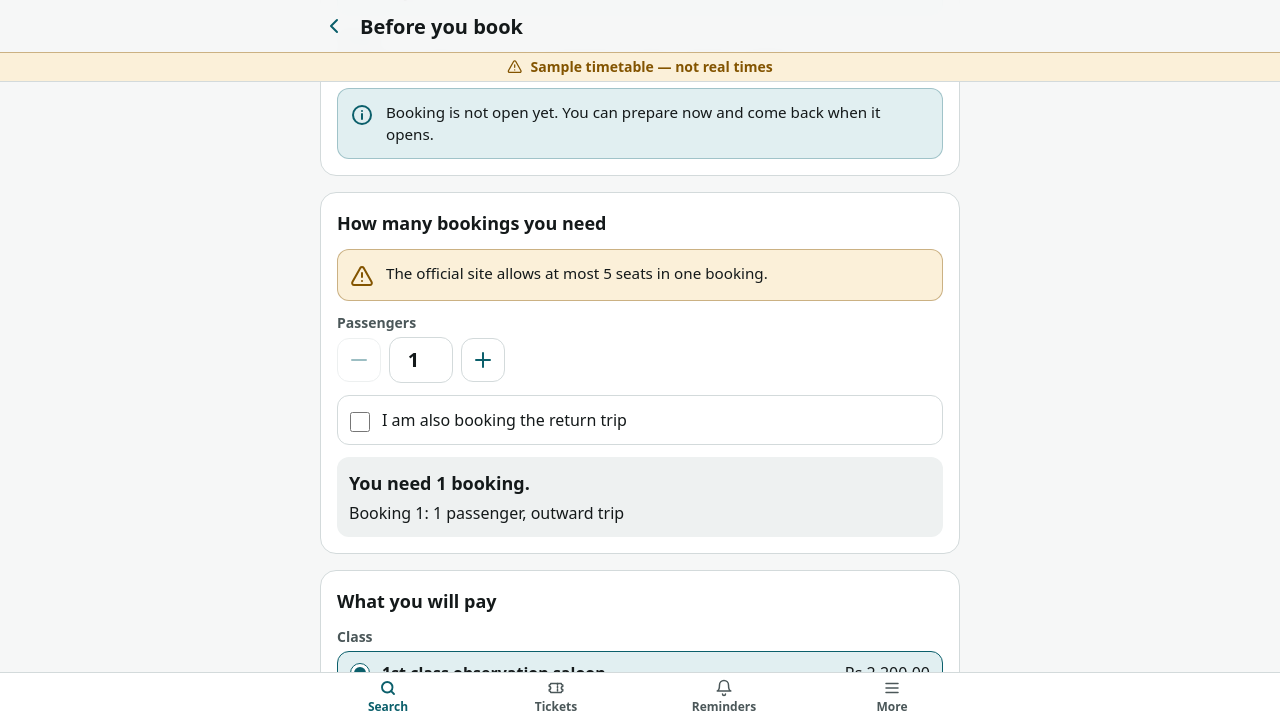
it: how many bookings › warns about the 5-seat limit and splits 7 passengers into 5 + 2
This screenshot has width=1280, height=720.
(page scrolled)
Expected: the text "The official site allows at most 5 seats in one booking." is shown, [386,262,768,285]
Expected: the text "You need 1 booking." is shown, [349,471,530,495]
Replace the text in the number field labelled "Passengers" with "7" at point(421, 360), box [389,337,453,383]
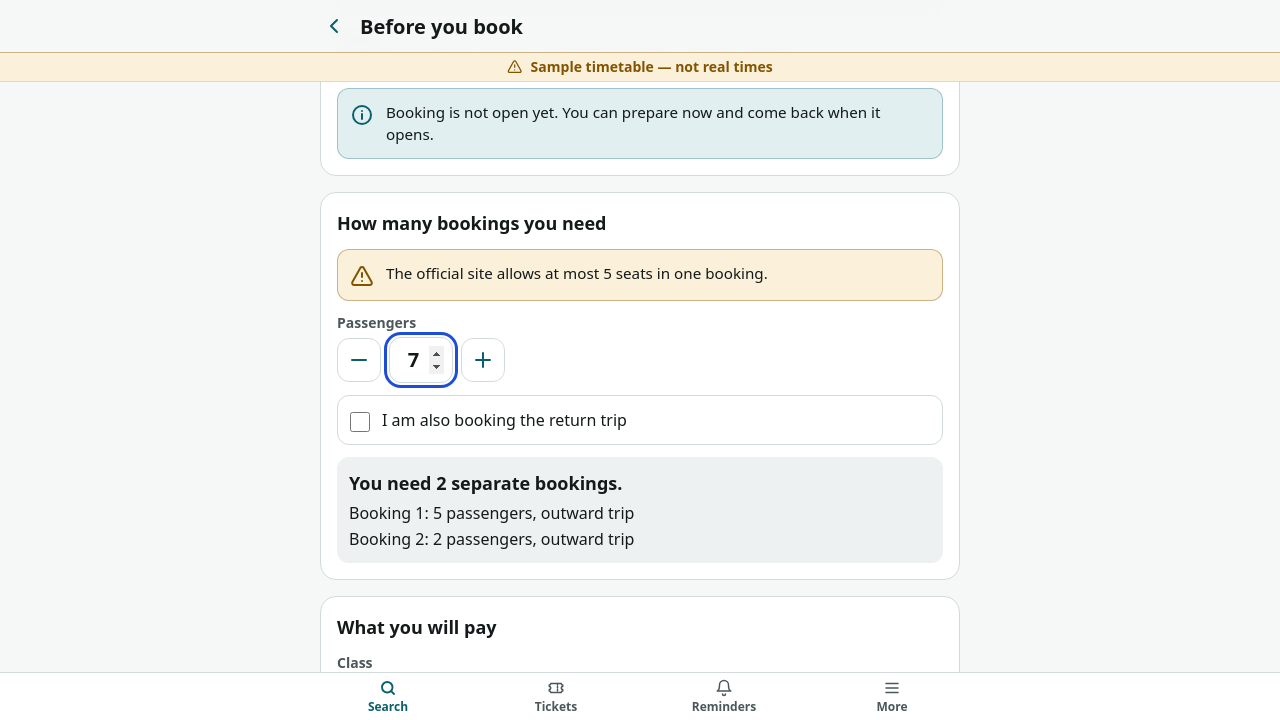
Now the text "You need 2 separate bookings." is shown, box [349,471,622,495]
Now the list item "Booking 1: 5 passengers, outward trip" is shown, box [349,502,634,524]
Now the list item "Booking 2: 2 passengers, outward trip" is shown, box [349,528,634,550]
